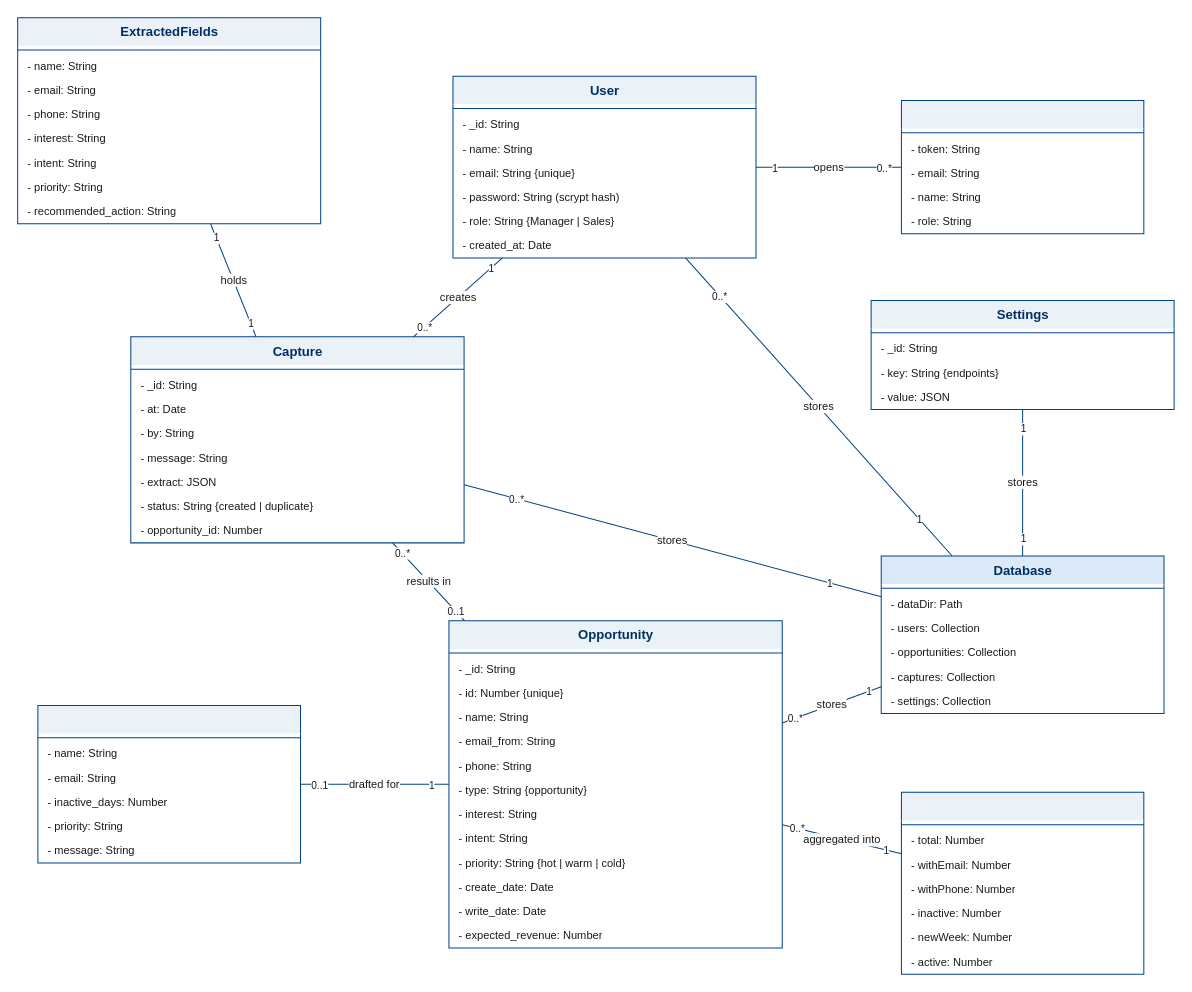
The diagram is 1192 pixels wide and 992 high, and some of its shapes have lost their labels. Each missing label, with the box of its shape:
FollowUp: (37, 704, 300, 863)
KpiSummary: (900, 791, 1144, 974)
Session: (900, 99, 1144, 234)
